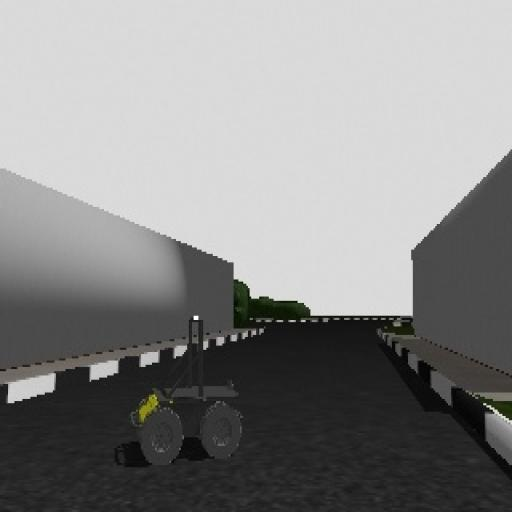huskya200: (115, 299, 279, 473)
